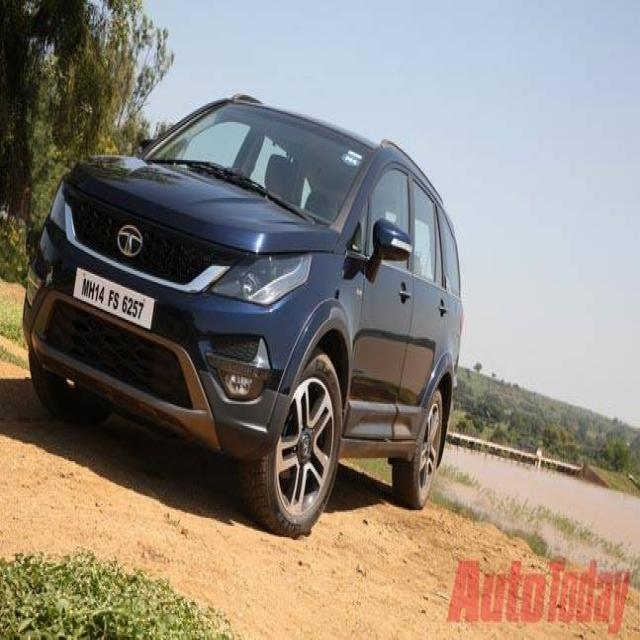Car: (20, 84, 462, 540)
